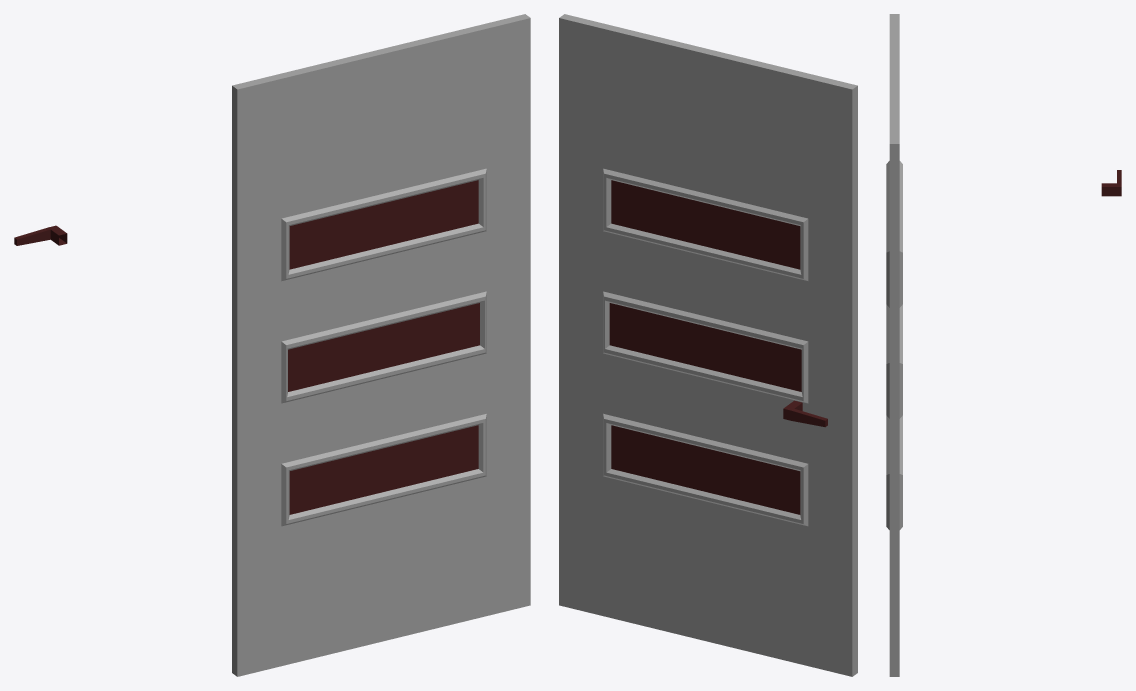
Rendered from ExteriorDoor.fbx.
3 renders of one model, left to right at view 1: azimuth 30°, elevation 25°; view 2: azimuth 150°, elevation 25°; view 3: azimuth 270°, elevation 25°, orthographic. The views are drawn at different scales.
Parts seen in each view (by area): view 1: ExteriorDoor; view 2: ExteriorDoor, ExteriorDoorHandles; view 3: ExteriorDoor.
Boxes of the visible parts, box(x1,y1,x2,y2) form: ExteriorDoor: box(232, 14, 530, 676); ExteriorDoor: box(559, 14, 857, 676); ExteriorDoorHandles: box(783, 400, 827, 427); ExteriorDoor: box(886, 14, 902, 676).
Bounding box in the file's own units: 2.27 × 3.28 × 1.31.
